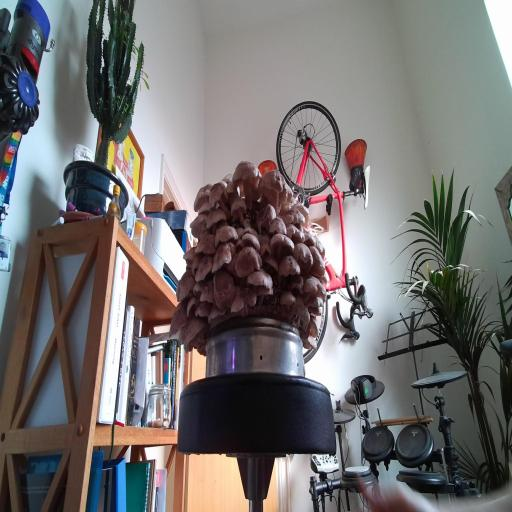Shiitake Mushroom: (224, 150, 270, 209), (250, 158, 295, 215), (171, 306, 218, 356), (224, 239, 271, 281), (156, 296, 201, 339), (222, 283, 266, 321), (284, 236, 323, 277), (201, 236, 244, 273), (197, 199, 234, 239), (249, 196, 283, 237), (168, 266, 204, 304), (267, 180, 300, 219), (185, 178, 221, 213), (183, 205, 217, 242), (211, 265, 237, 311), (187, 250, 220, 286), (207, 178, 234, 218), (268, 226, 297, 263), (208, 220, 243, 248), (280, 220, 311, 249), (275, 284, 301, 318), (280, 295, 310, 321), (287, 197, 315, 224), (302, 274, 327, 304), (275, 252, 303, 278), (245, 266, 276, 289), (202, 300, 230, 323), (293, 302, 316, 329), (274, 195, 300, 217), (299, 313, 320, 340), (221, 180, 241, 208), (238, 231, 264, 252), (309, 245, 326, 277), (229, 194, 247, 224), (176, 314, 192, 347), (310, 234, 330, 259), (181, 292, 200, 318), (190, 274, 209, 300), (195, 232, 216, 254), (252, 285, 274, 306), (282, 206, 306, 225), (299, 230, 321, 249), (192, 300, 214, 319), (199, 280, 215, 305), (287, 274, 304, 297), (257, 233, 272, 258), (269, 216, 287, 234), (304, 294, 325, 309), (301, 335, 319, 351), (219, 170, 236, 186), (195, 343, 209, 362), (183, 246, 195, 268), (264, 254, 279, 271), (250, 178, 261, 201), (227, 252, 237, 275), (196, 200, 212, 214), (174, 279, 182, 303), (242, 226, 258, 237), (318, 272, 329, 287), (308, 305, 323, 316), (234, 236, 244, 250), (236, 225, 245, 239)
